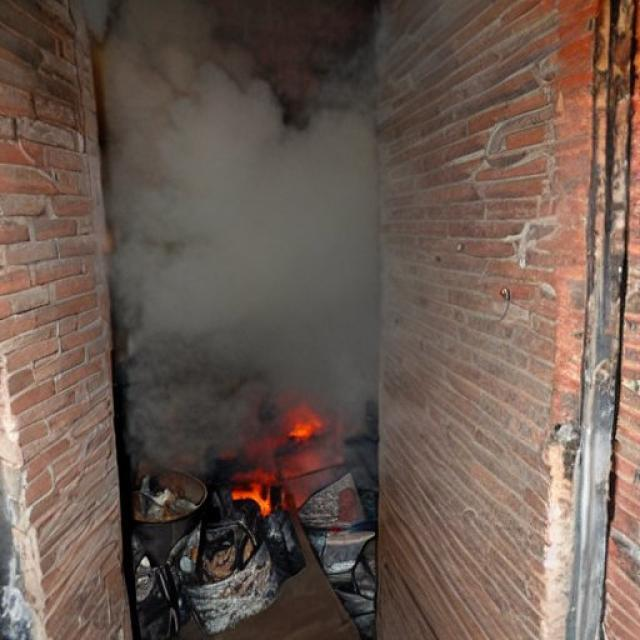Fire: (232, 469, 278, 524)
Smoke: (108, 2, 384, 462)
